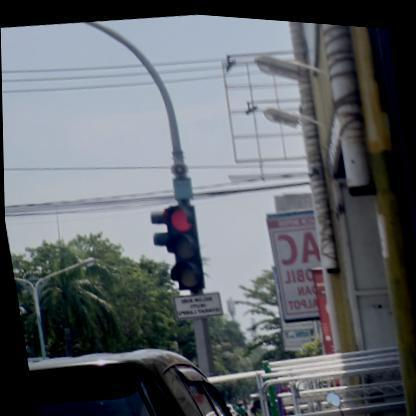red: (158, 200, 206, 289)
